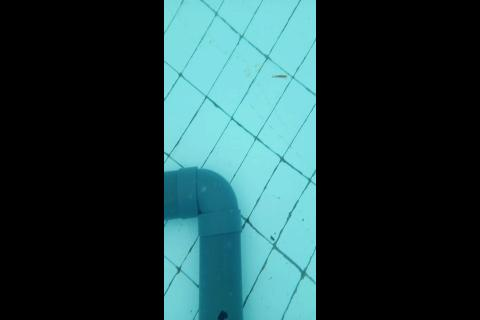kebocoran: (216, 310, 229, 320)
